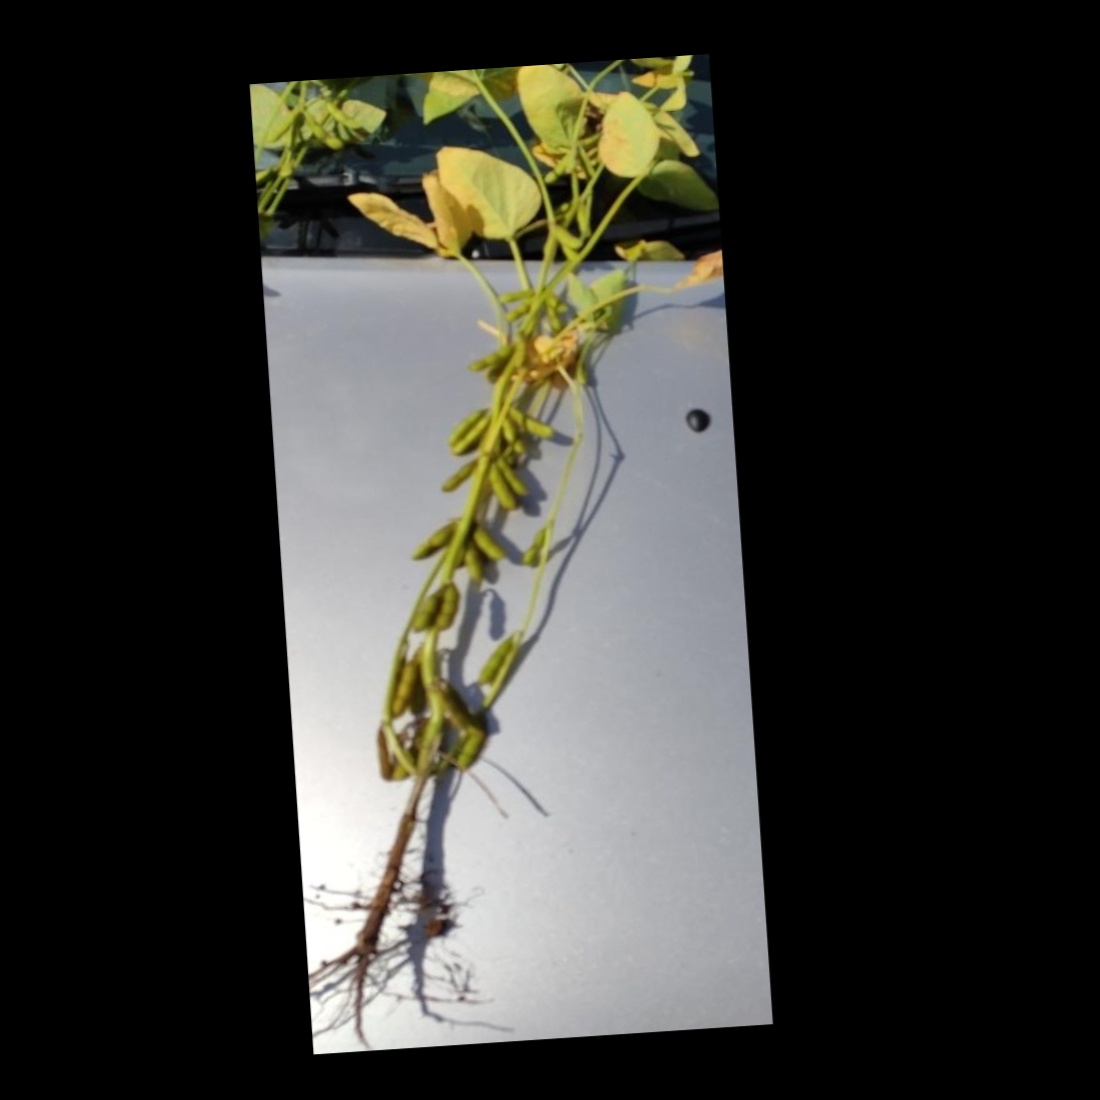pod: (473, 627, 524, 693), (440, 407, 497, 452), (448, 408, 496, 461), (507, 401, 564, 443), (479, 461, 522, 516), (429, 577, 462, 646), (458, 339, 513, 374), (469, 518, 508, 565), (407, 586, 443, 634), (542, 220, 586, 256), (519, 527, 546, 566)
soy: (259, 72, 754, 1023)
